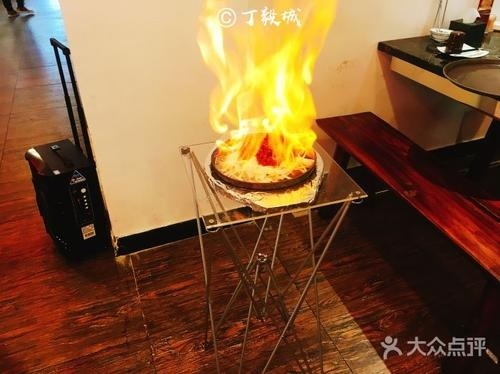fire: (198, 1, 337, 181)
